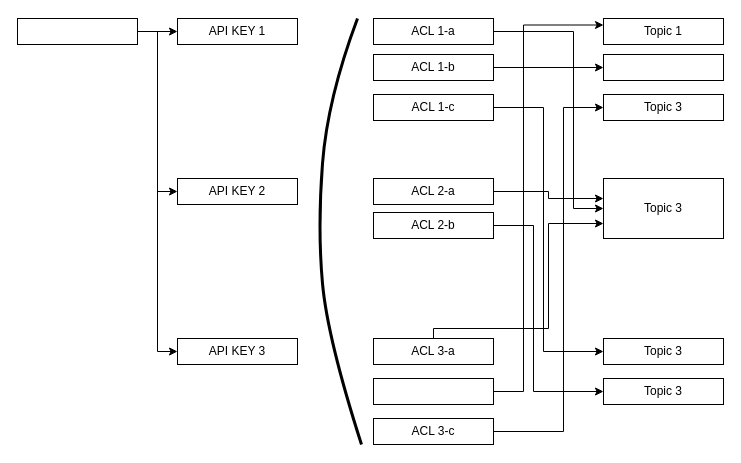
Image size: 741x463. Some labels were removed from this diagram. The centre of each missing label's shape, as x and y in pixels:
"ACL 3-b" goes at (433,391).
"Service Account" goes at (77,31).
"Topic 2" goes at (663,67).
